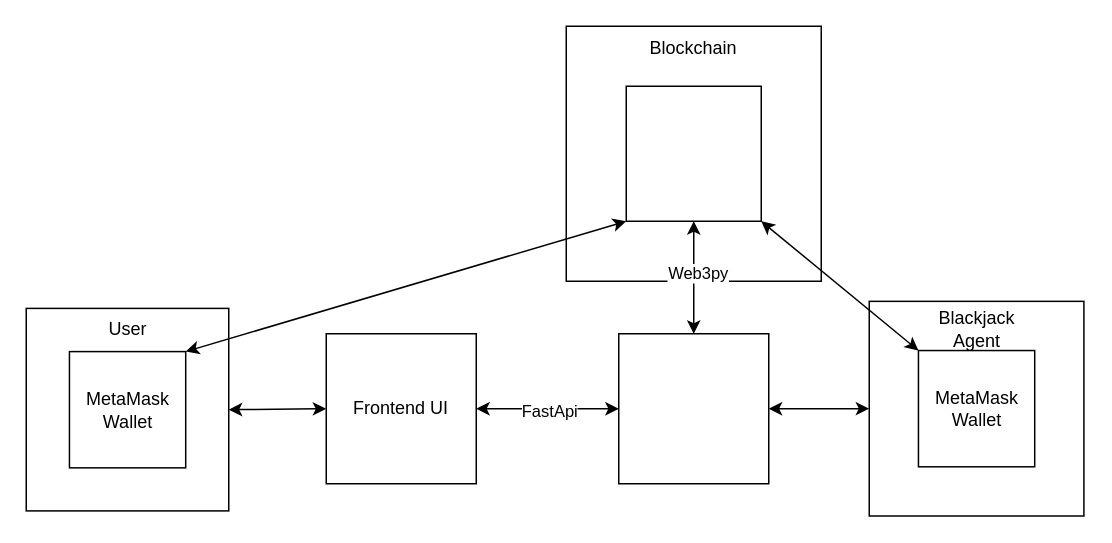
The diagram is 1112 pixels wide and 543 high, and some of its shapes have lost their labels. Here are the shapes that lost their labels. From the top down, the box of each, then its label:
(625, 85, 761, 221): Blackjack Smart Contract
(617, 332, 769, 484): (Backend Python) Game Logic Code
